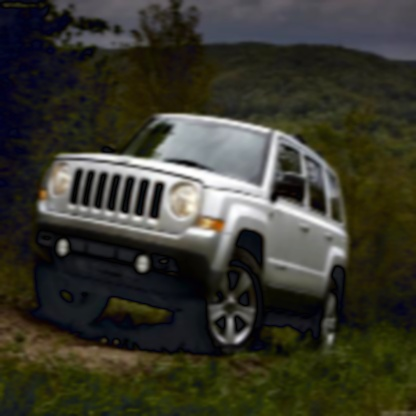Vehicle: (29, 112, 350, 357)
